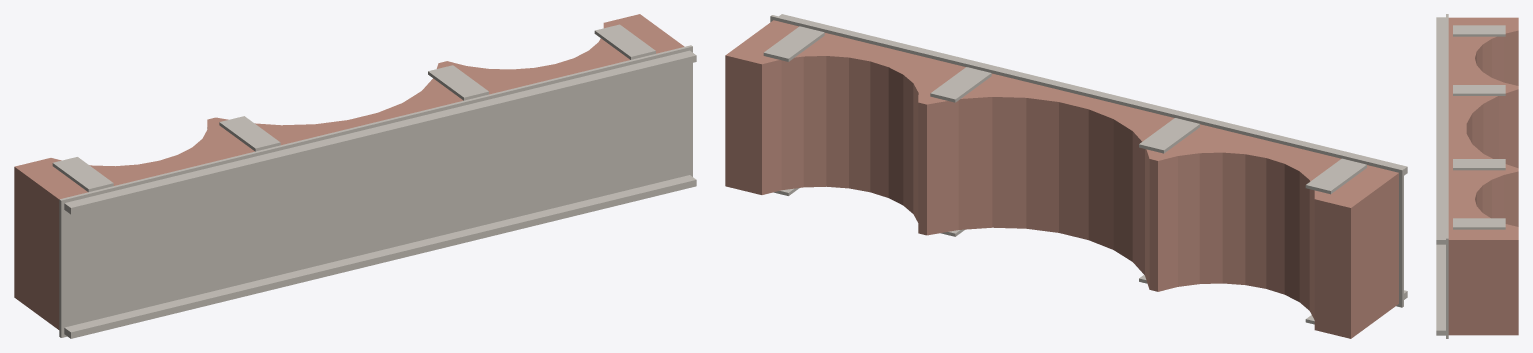
The model's file is r-125-charles-brick-arch-bridge.glb.
3 views of the same model, side by side, from view 1: azimuth 30°, elevation 25°; view 2: azimuth 150°, elevation 25°; view 3: azimuth 270°, elevation 25° (orthographic). The views are drawn at different scales.
Visible parts, largest first — view 1: stone-trim, brick-body; view 2: brick-body, stone-trim; view 3: brick-body, stone-trim.
Part boxes in pixels (x1,y1,x2,y2): stone-trim: (52, 24, 696, 338); brick-body: (14, 14, 684, 329); brick-body: (725, 20, 1398, 338); stone-trim: (763, 14, 1407, 324); brick-body: (1448, 17, 1518, 335); stone-trim: (1436, 14, 1505, 338).
Bounding box in the file's own units: 60600 × 12598 × 9400.
